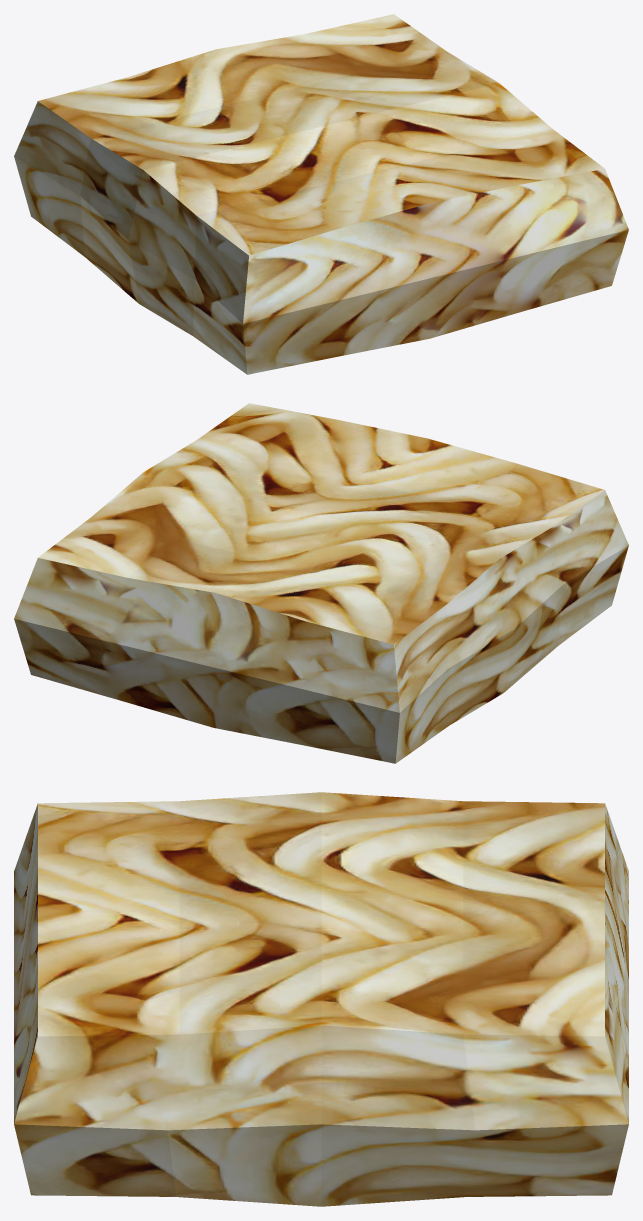
File: noodles_comienzo.fbx
3 renders of one model, top to bottom at view 1: azimuth 30°, elevation 25°; view 2: azimuth 150°, elevation 25°; view 3: azimuth 270°, elevation 25°, orthographic. The views are drawn at different scales.
Visible parts, largest first — view 1: noodles_comienzo; view 2: noodles_comienzo; view 3: noodles_comienzo.
Part boxes in pixels (left/top/right/bottom): noodles_comienzo: left=14, top=14, right=628, bottom=374; noodles_comienzo: left=14, top=403, right=628, bottom=763; noodles_comienzo: left=14, top=792, right=628, bottom=1206.
Bounding box in the file's own units: 621 × 200 × 624.
